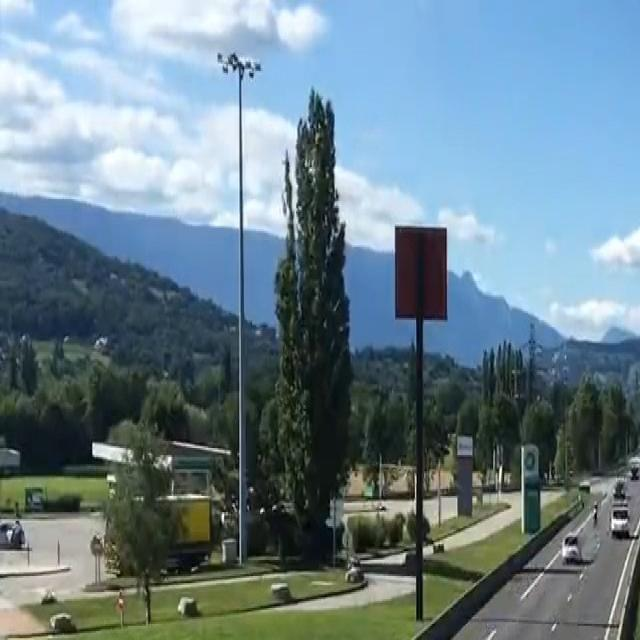car: (547, 530, 599, 573), (606, 517, 639, 552)
